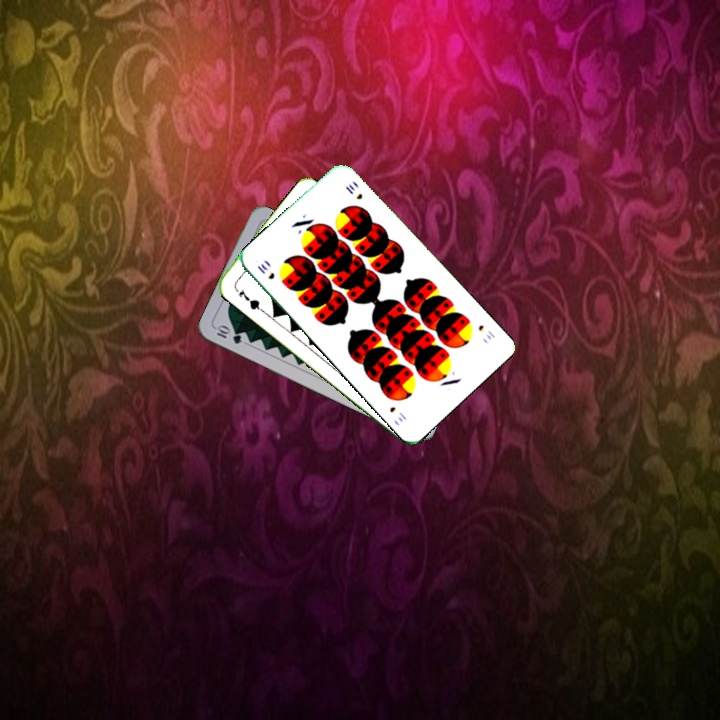G10: (212, 321, 245, 347)
G7: (235, 285, 265, 313)
S10: (253, 259, 277, 282), (474, 321, 498, 343)
